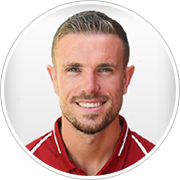face: (42, 45, 136, 124)
